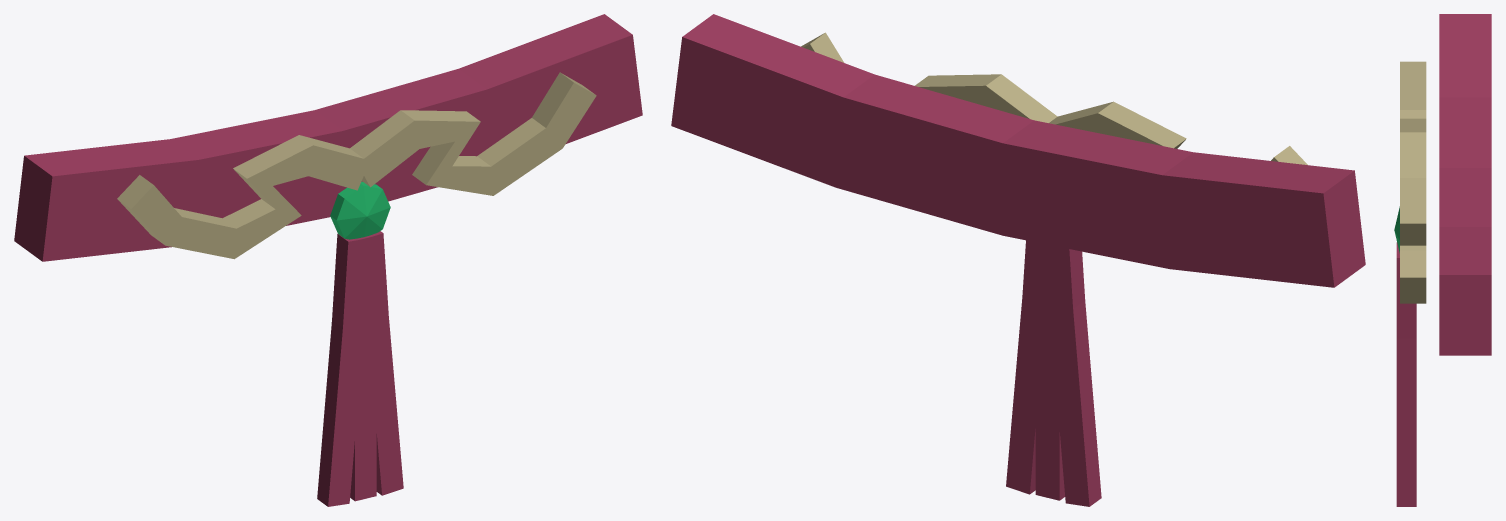
File: cloud_knot.obj
The picture shows the model from 3 angles, left to right: view 1: azimuth 30°, elevation 25°; view 2: azimuth 150°, elevation 25°; view 3: azimuth 270°, elevation 25°; orthographic projection. The views are drawn at different scales.
Parts seen in each view (by area): view 1: cloud_belt, cloud_belt_edge, belt_cloud_left, belt_cloud_right, cloud_knot_strand_02, cloud_knot_strand_00, belt_cloud_right_edge, belt_cloud_left_edge, cloud_knot_strand_00_edge, cloud_knot_strand_01, cloud_knot_knot; view 2: cloud_belt, cloud_belt_edge, cloud_knot_strand_00, cloud_knot_strand_02, cloud_knot_strand_01, cloud_knot_strand_00_edge, belt_cloud_right_edge, belt_cloud_left_edge, belt_cloud_right, belt_cloud_left; view 3: cloud_belt_edge, cloud_knot_strand_02_edge, belt_cloud_right_edge, belt_cloud_left_edge, cloud_knot_knot.
Part boxes in pixels (x1,y1,x2,y2): cloud_belt: (42,35,642,261); cloud_belt_edge: (14,14,632,261); belt_cloud_left: (131,145,370,259); belt_cloud_right: (361,83,596,195); cloud_knot_strand_02: (362,233,403,495); cloud_knot_strand_00: (328,238,369,506); belt_cloud_right_edge: (350,72,595,186); belt_cloud_left_edge: (117,135,363,244); cloud_knot_strand_00_edge: (317,233,358,506); cloud_knot_strand_01: (355,236,376,501); cloud_knot_knot: (330,181,390,239); cloud_belt: (671,37,1334,287); cloud_belt_edge: (682,14,1365,287); cloud_knot_strand_00: (1045,245,1089,506); cloud_knot_strand_02: (1006,240,1049,494); cloud_knot_strand_01: (1035,253,1059,500); cloud_knot_strand_00_edge: (1069,249,1101,506); belt_cloud_right_edge: (801,32,1057,122); belt_cloud_left_edge: (1049,101,1307,164); belt_cloud_right: (803,44,1029,118); belt_cloud_left: (1055,113,1278,161); cloud_belt_edge: (1439,14,1491,355); cloud_knot_strand_02_edge: (1396,254,1416,506); belt_cloud_right_edge: (1400,178,1426,303); belt_cloud_left_edge: (1400,61,1426,177); cloud_knot_knot: (1394,206,1399,253).
Bounding box in the file's own units: 0.9761 × 0.5861 × 0.1489.
